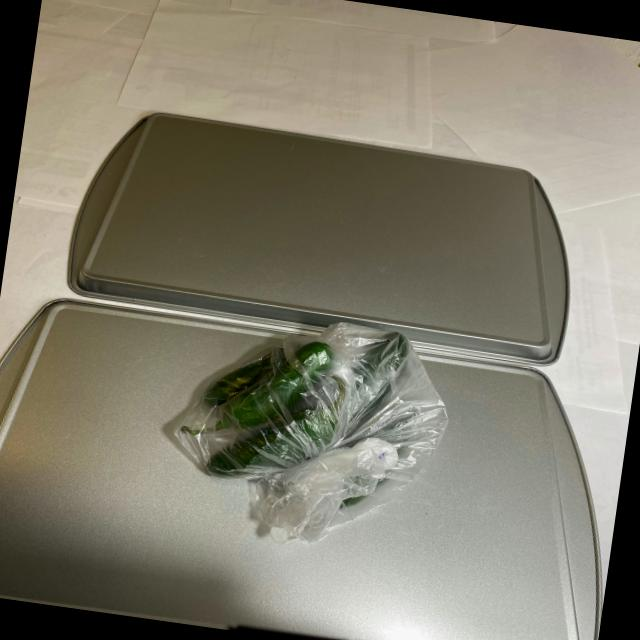chilli: (164, 304, 456, 524)
